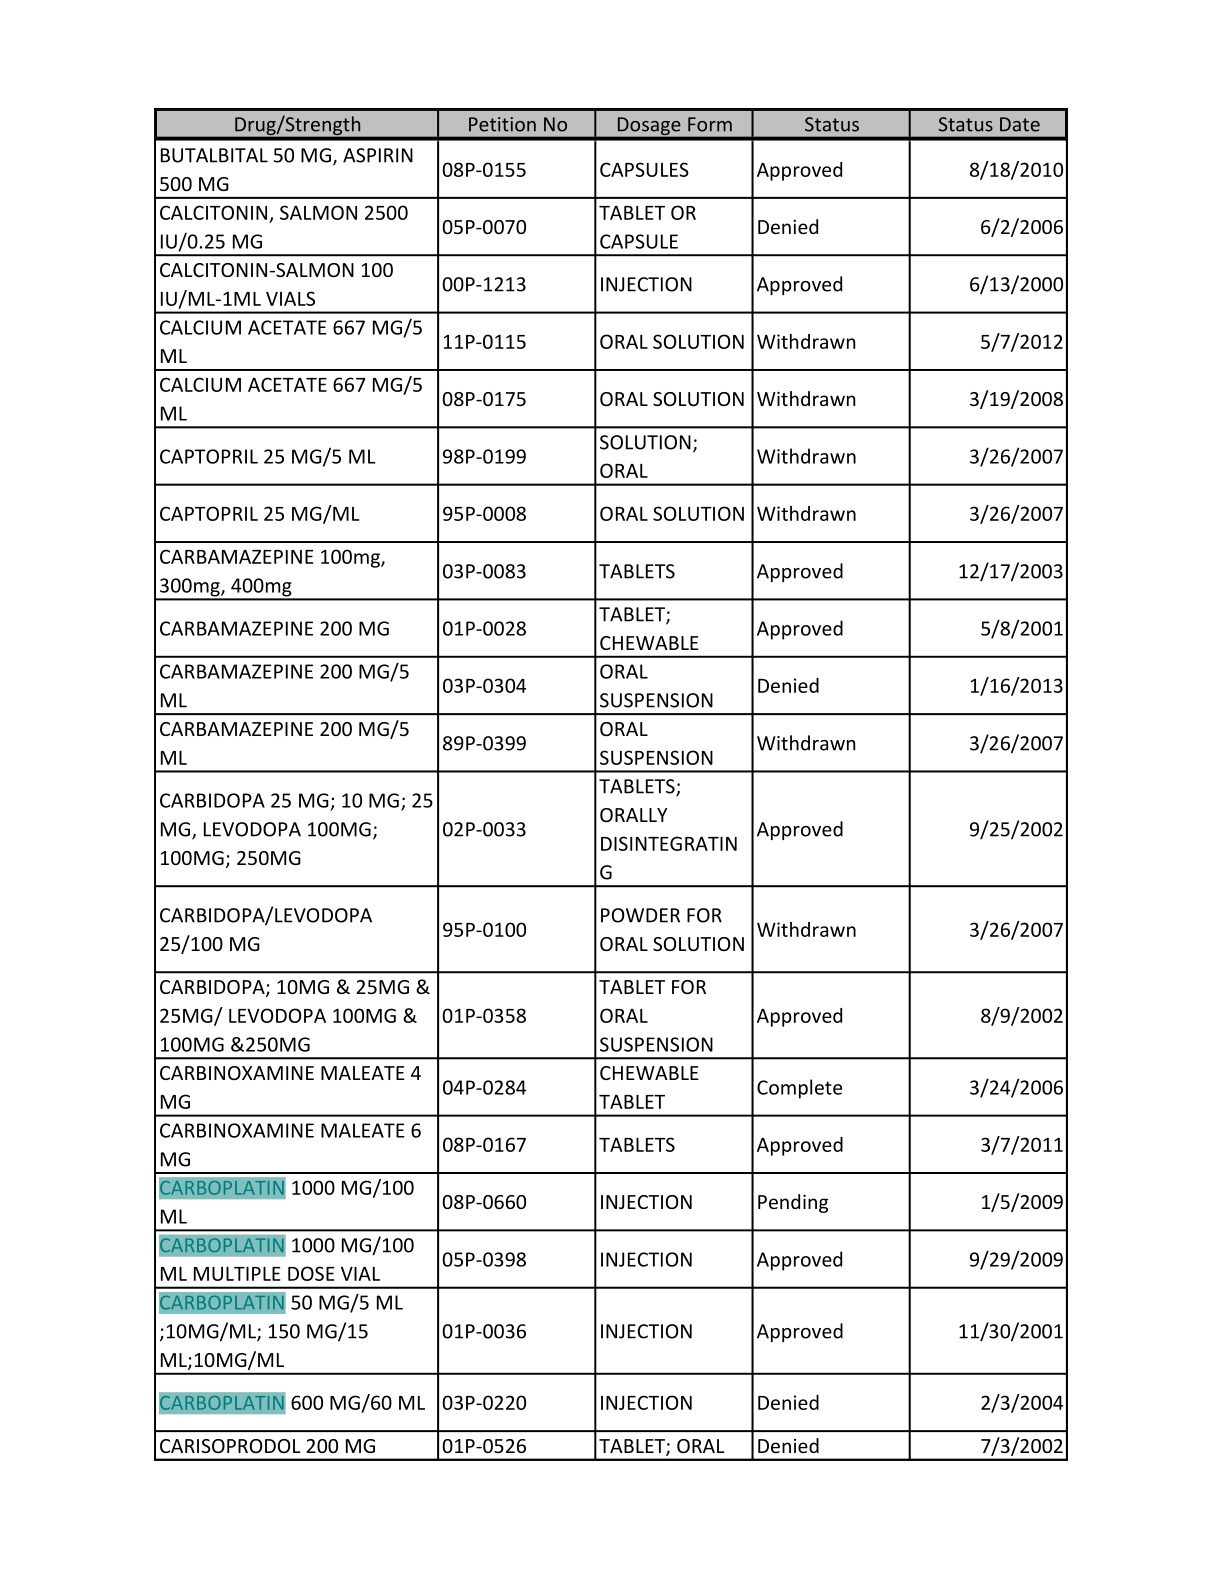full_lined: (154, 108, 1068, 1462)
